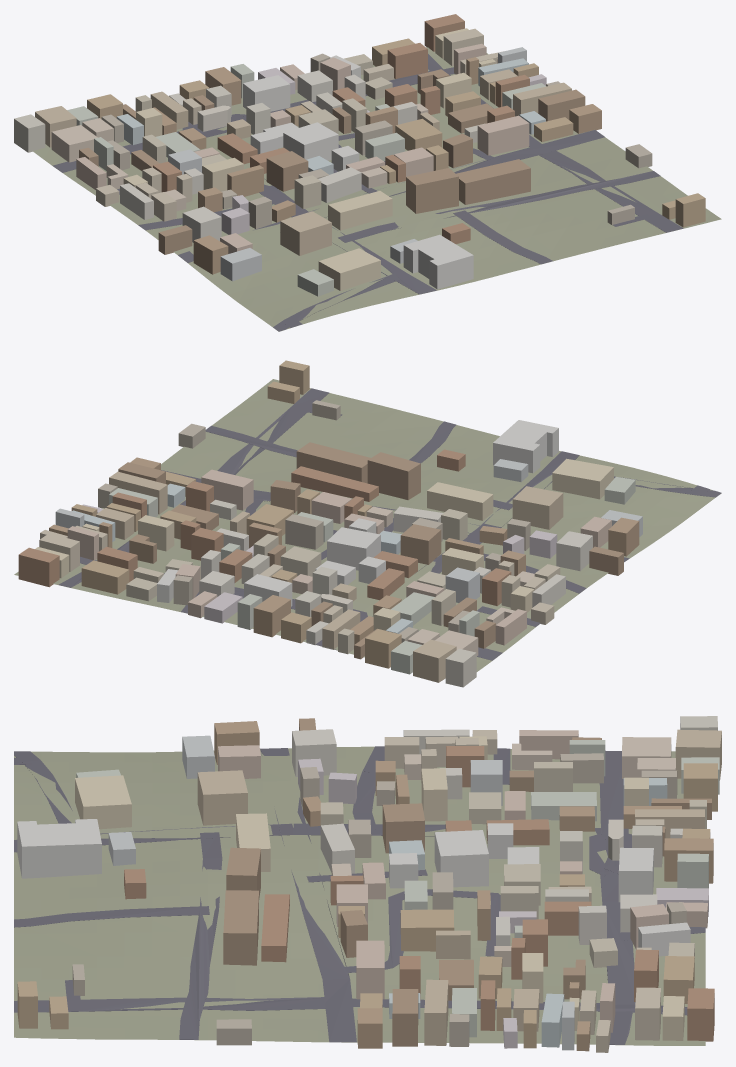
Rendered from chunk_9_5.glb.
The picture shows the model from 3 angles, top to bottom: view 1: azimuth 30°, elevation 25°; view 2: azimuth 150°, elevation 25°; view 3: azimuth 270°, elevation 25°; orthographic projection. The views are drawn at different scales.
Visible parts, largest first — view 1: geometry_152, geometry_11, geometry_7, geometry_6, geometry_158, geometry_150, geometry_1, geometry_54, geometry_154, geometry_81, geometry_155, geometry_18 (+60 smaller); view 2: geometry_152, geometry_11, geometry_6, geometry_1, geometry_7, geometry_150, geometry_54, geometry_18, geometry_3, geometry_154, geometry_81, geometry_130 (+60 smaller); view 3: geometry_152, geometry_11, geometry_155, geometry_158, geometry_154, geometry_18, geometry_7, geometry_1, geometry_150, geometry_168, geometry_75, geometry_173 (+103 smaller).
Part boxes in pixels (x1,y1,x2,y2): geometry_152: (32,47,721,331); geometry_11: (403,234,473,289); geometry_7: (456,159,530,204); geometry_6: (406,168,458,213); geometry_158: (338,171,660,242); geometry_150: (280,211,331,255); geometry_1: (318,248,380,290); geometry_54: (328,191,392,230); geometry_154: (539,150,683,232); geometry_81: (477,115,529,155); geometry_155: (178,130,604,262); geometry_18: (283,122,338,160); geometry_152: (14,379,721,671); geometry_11: (493,420,558,473); geometry_6: (367,452,420,499); geometry_1: (552,458,613,499); geometry_7: (296,442,370,483); geometry_150: (512,486,563,529); geometry_54: (427,482,493,520); geometry_18: (327,527,380,570); geometry_3: (291,466,378,501); geometry_154: (217,388,329,474); geometry_81: (201,469,253,510); geometry_130: (18,547,59,587); geometry_152: (14,746,705,1045); geometry_11: (17,819,101,878); geometry_155: (260,748,356,1042); geometry_158: (179,832,222,1039); geometry_154: (14,997,325,1012); geometry_18: (434,830,488,887); geometry_7: (223,890,258,965); geometry_1: (75,775,131,829); geometry_150: (197,770,247,825); geometry_168: (600,872,635,1004); geometry_75: (400,909,454,951); geometry_173: (344,889,500,972).
Size of the model in its own units: 261 by 19.89 by 256.
